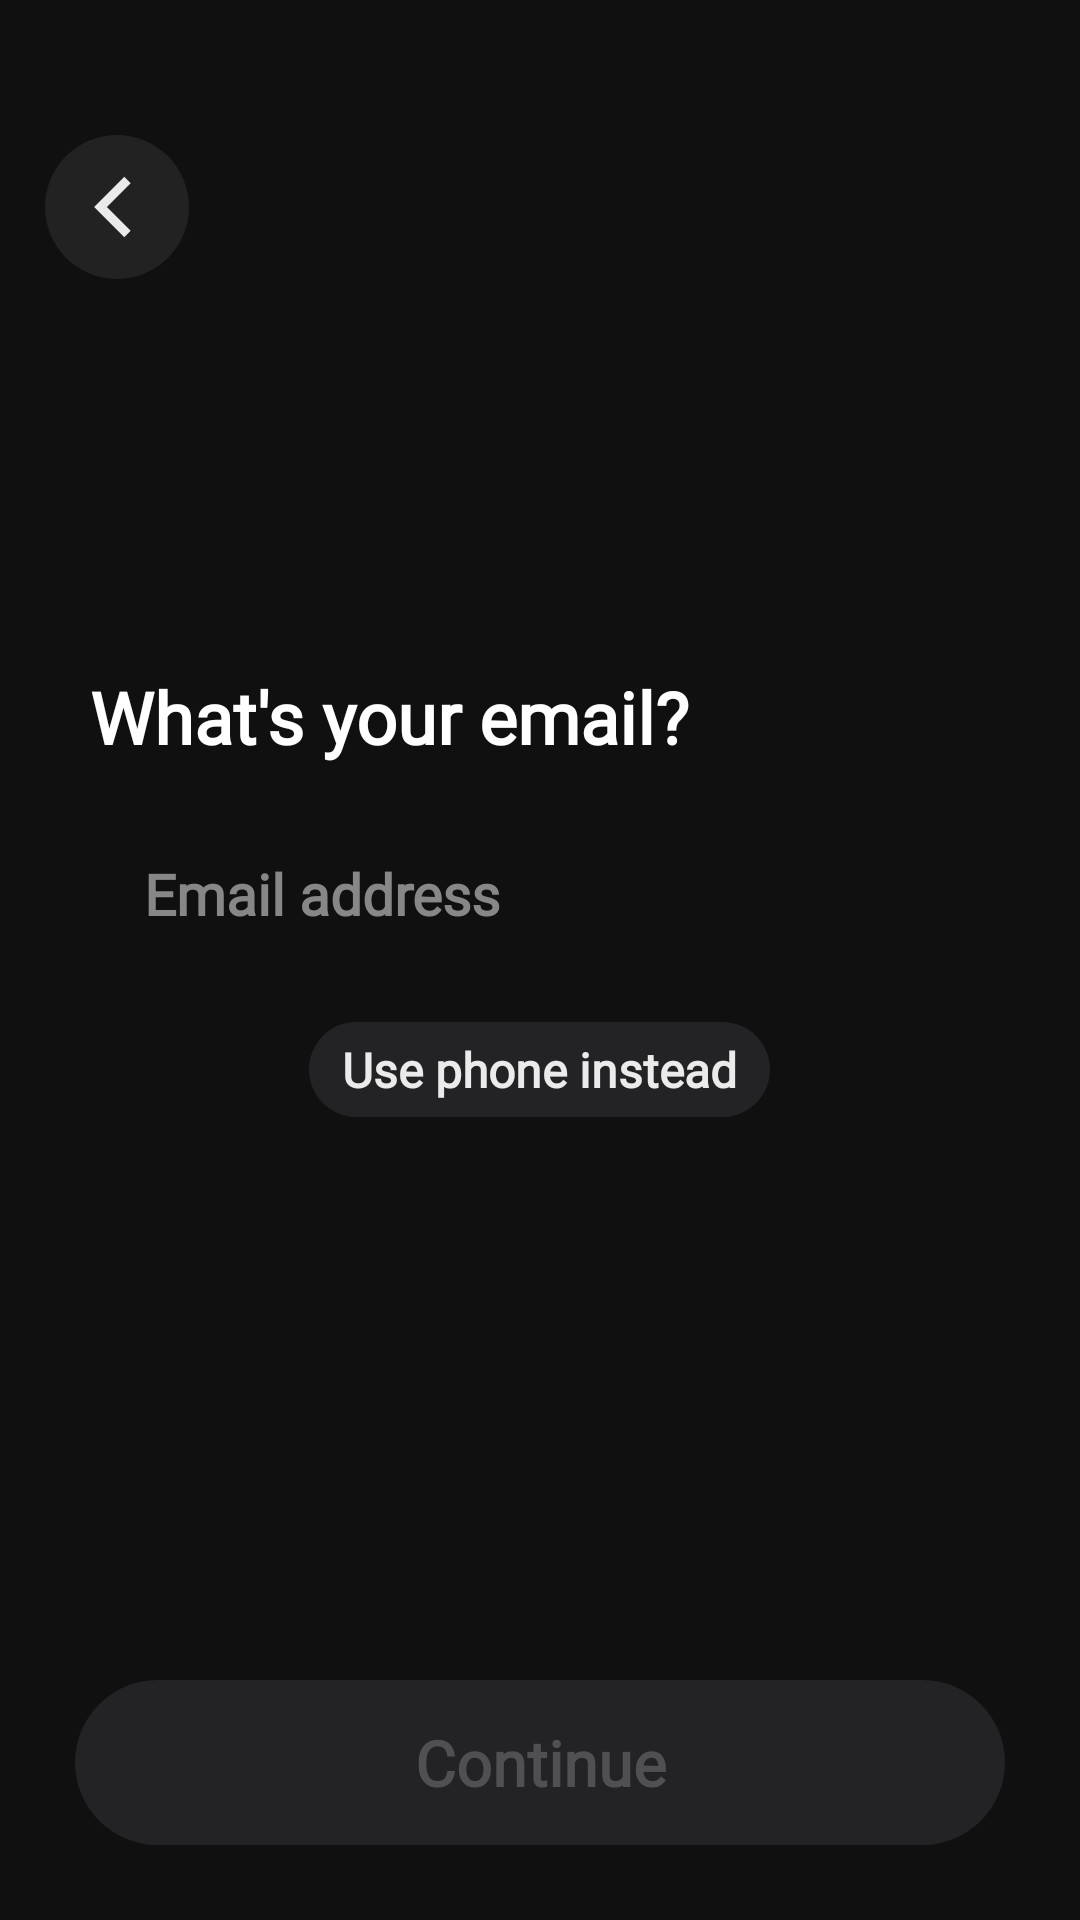

Icons on this 1080x1920 Android screen, each with its box as [x1, y1, x2, y2]:
back left: [45, 135, 189, 279]
